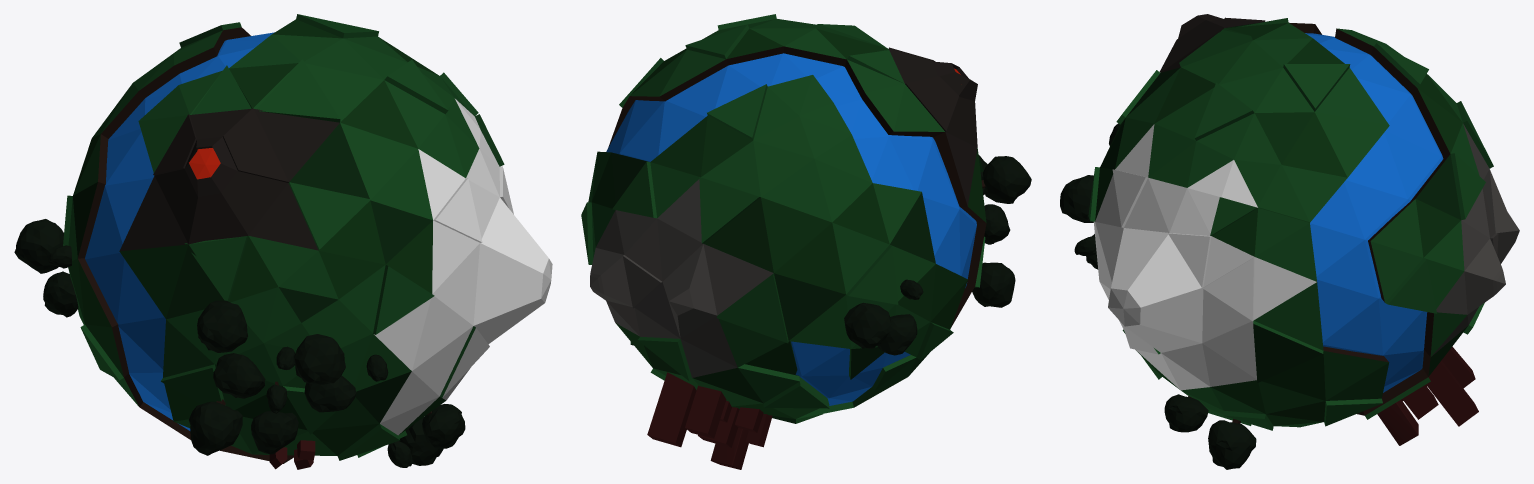
The model's file is Planeet_-_1.fbx.
3 views of the same model, side by side, from view 1: azimuth 30°, elevation 25°; view 2: azimuth 150°, elevation 25°; view 3: azimuth 270°, elevation 25° (orthographic). The views are drawn at different scales.
Visible parts, largest first — view 1: node_id195, node_id201, node_id207, node_id213, node_id191, node_id216, node_id198, node_id103, node_id75, node_id159, node_id131, node_id57 (+6 smaller); view 2: node_id195, node_id191, node_id204, node_id213, node_id216, node_id207, node_id198, node_id42, node_id75, node_id131, node_id103, node_id46 (+5 smaller); view 3: node_id195, node_id201, node_id191, node_id213, node_id204, node_id216, node_id198, node_id207, node_id187, node_id42, node_id169, node_id159 (+3 smaller).
Part boxes in pixels (bbox=[...]): node_id195: bbox=[63, 14, 504, 460]; node_id201: bbox=[374, 99, 552, 435]; node_id207: bbox=[119, 108, 339, 251]; node_id213: bbox=[68, 19, 445, 455]; node_id191: bbox=[85, 32, 274, 430]; node_id216: bbox=[73, 123, 432, 423]; node_id198: bbox=[78, 27, 293, 463]; node_id103: bbox=[189, 401, 242, 455]; node_id75: bbox=[197, 300, 247, 352]; node_id159: bbox=[294, 334, 345, 384]; node_id131: bbox=[14, 219, 63, 273]; node_id57: bbox=[213, 353, 265, 398]; node_id195: bbox=[581, 14, 985, 423]; node_id191: bbox=[606, 53, 976, 405]; node_id204: bbox=[590, 179, 773, 377]; node_id213: bbox=[592, 28, 986, 418]; node_id216: bbox=[611, 152, 935, 402]; node_id207: bbox=[889, 47, 977, 205]; node_id198: bbox=[608, 46, 986, 327]; node_id42: bbox=[647, 372, 696, 447]; node_id75: bbox=[983, 156, 1031, 203]; node_id131: bbox=[844, 302, 891, 348]; node_id103: bbox=[972, 262, 1015, 307]; node_id46: bbox=[685, 385, 726, 438]; node_id195: bbox=[1088, 18, 1493, 430]; node_id201: bbox=[1093, 124, 1316, 390]; node_id191: bbox=[1305, 33, 1443, 392]; node_id213: bbox=[1095, 22, 1468, 425]; node_id204: bbox=[1431, 123, 1519, 356]; node_id216: bbox=[1100, 67, 1465, 421]; node_id198: bbox=[1289, 22, 1450, 415]; node_id207: bbox=[1159, 14, 1265, 72]; node_id187: bbox=[1208, 420, 1256, 469]; node_id42: bbox=[1426, 360, 1478, 426]; node_id169: bbox=[1164, 394, 1208, 432]; node_id159: bbox=[1060, 175, 1093, 222].
Bounding box in the file's own units: 0.1339 × 0.1438 × 0.1505.
